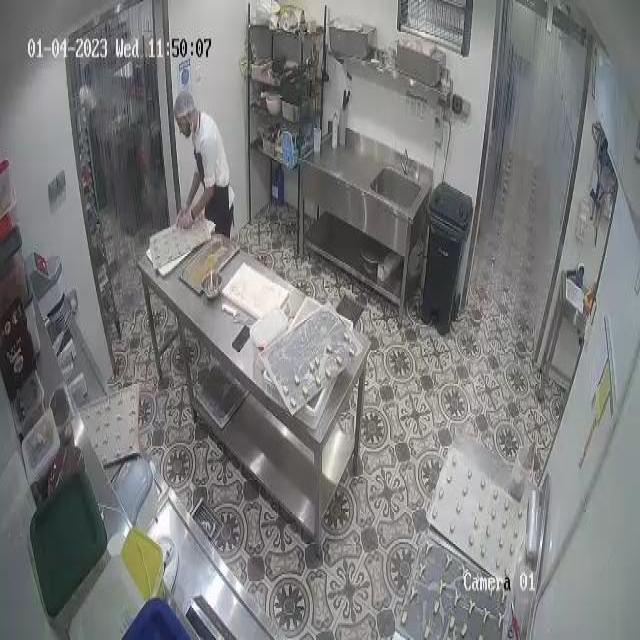hairnet: (174, 90, 196, 118)
